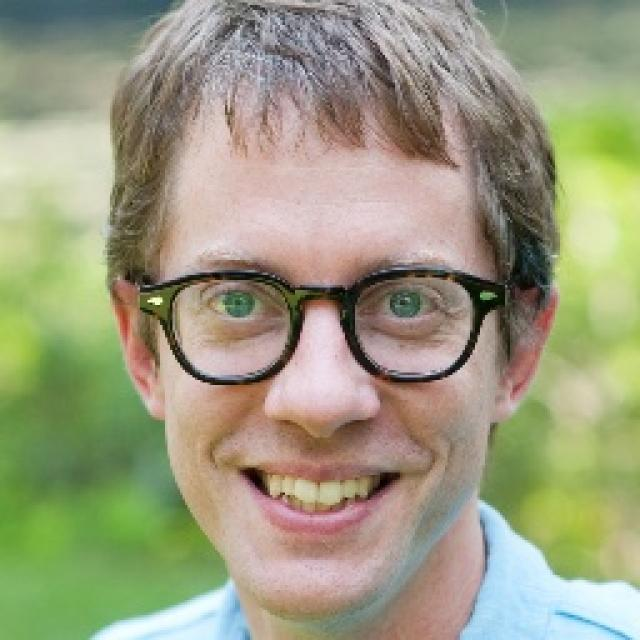earlobe: (490, 374, 524, 423), (132, 372, 164, 421)
eye: (200, 285, 278, 324), (366, 289, 445, 322)
nose: (268, 412, 375, 459)
wholeear: (491, 281, 560, 424), (105, 271, 164, 421)
